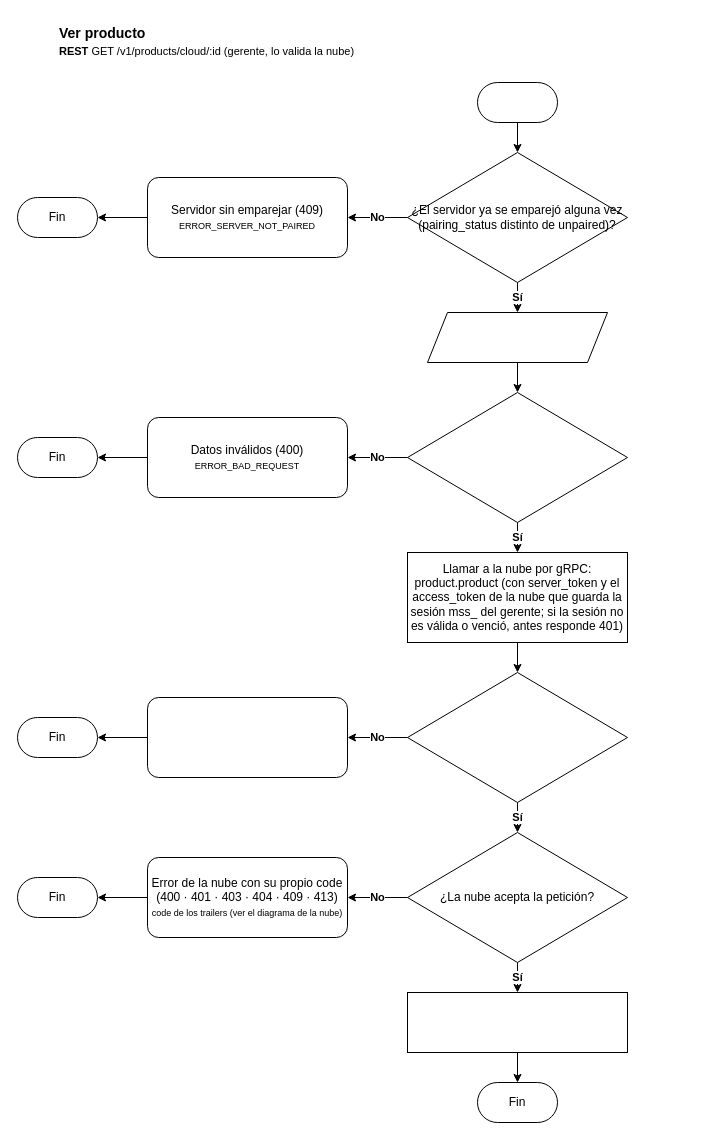
The diagram is 715 pixels wide and 1140 high, and some of its shapes have lost their labels. The box of each missing label's shape, as (x1, y1, x2, y2) in pixels:
Inicio: (476, 82, 558, 122)
La nube no responde (503) ERROR_CLOUD_UNAVAILABLE · ERROR_SERVER_UNLINKED: (146, 696, 348, 778)
Recibir datos: (426, 312, 608, 362)
Responder 200 con el mensaje PRODUCT_RETRIEVED: (406, 992, 628, 1052)
¿La nube responde antes de 10 s?: (406, 672, 628, 802)
¿Los datos son válidos?: (406, 392, 628, 522)
